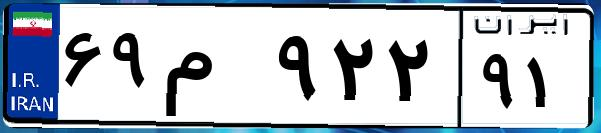1: (525, 38, 570, 115)
2: (385, 28, 445, 110), (330, 28, 385, 110)
6: (57, 26, 110, 100)
9: (270, 28, 330, 110), (475, 38, 525, 113), (110, 28, 158, 98)
م: (158, 20, 270, 120)
